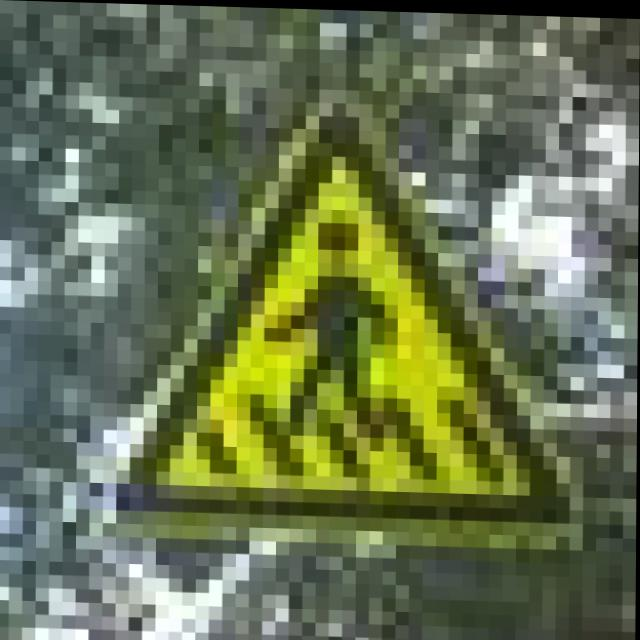PEDESTRIAN_CROSSING: (114, 94, 587, 556)
